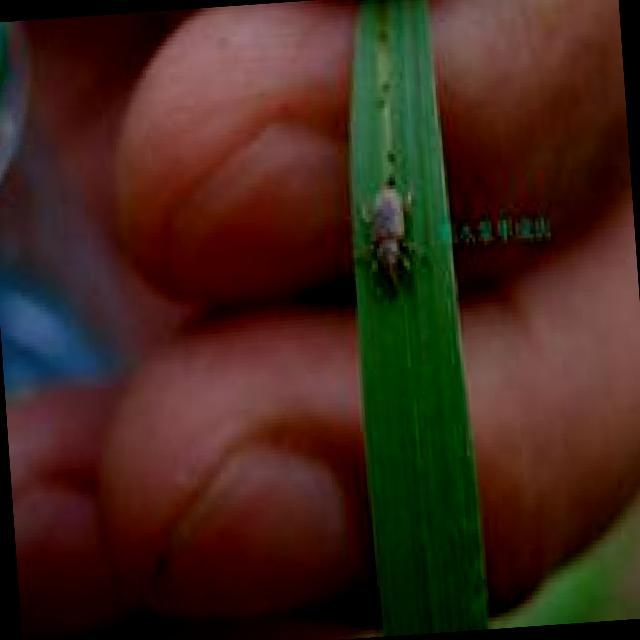ricebug: (371, 180, 405, 275)
